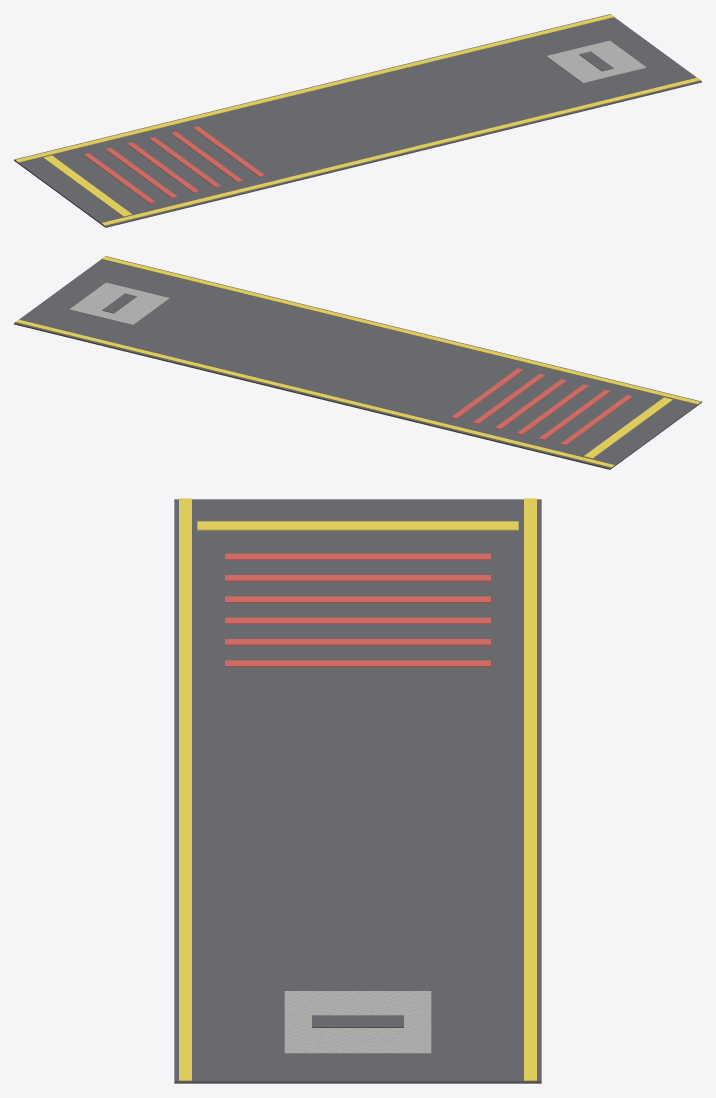
File: bus-station-and-city-transit-bus-stand-bay-module-14119489__34203.glb
The picture shows the model from 3 angles, top to bottom: view 1: azimuth 30°, elevation 25°; view 2: azimuth 150°, elevation 25°; view 3: azimuth 270°, elevation 25°; orthographic projection. The views are drawn at different scales.
Parts seen in each view (by area): view 1: bus-stand-bay-module-charcoal, bus-stand-bay-module-canary, bus-stand-bay-module-crimson, bus-stand-bay-module-concrete; view 2: bus-stand-bay-module-charcoal, bus-stand-bay-module-canary, bus-stand-bay-module-crimson, bus-stand-bay-module-concrete; view 3: bus-stand-bay-module-charcoal, bus-stand-bay-module-canary, bus-stand-bay-module-crimson, bus-stand-bay-module-concrete.
Part boxes in pixels (left/top/right/bottom): bus-stand-bay-module-charcoal: left=14, top=14, right=701, bottom=227; bus-stand-bay-module-canary: left=15, top=14, right=700, bottom=225; bus-stand-bay-module-crimson: left=83, top=126, right=264, bottom=203; bus-stand-bay-module-concrete: left=546, top=40, right=646, bottom=83; bus-stand-bay-module-charcoal: left=14, top=256, right=701, bottom=469; bus-stand-bay-module-canary: left=15, top=256, right=700, bottom=467; bus-stand-bay-module-crimson: left=451, top=368, right=632, bottom=445; bus-stand-bay-module-concrete: left=69, top=282, right=169, bottom=325; bus-stand-bay-module-charcoal: left=174, top=499, right=541, bottom=1083; bus-stand-bay-module-canary: left=179, top=498, right=536, bottom=1081; bus-stand-bay-module-crimson: left=225, top=553, right=490, bottom=666; bus-stand-bay-module-concrete: left=284, top=991, right=431, bottom=1053.
Size of the model in its own units: 15 by 0.0531 by 4.
4 materials, 1 textured.
